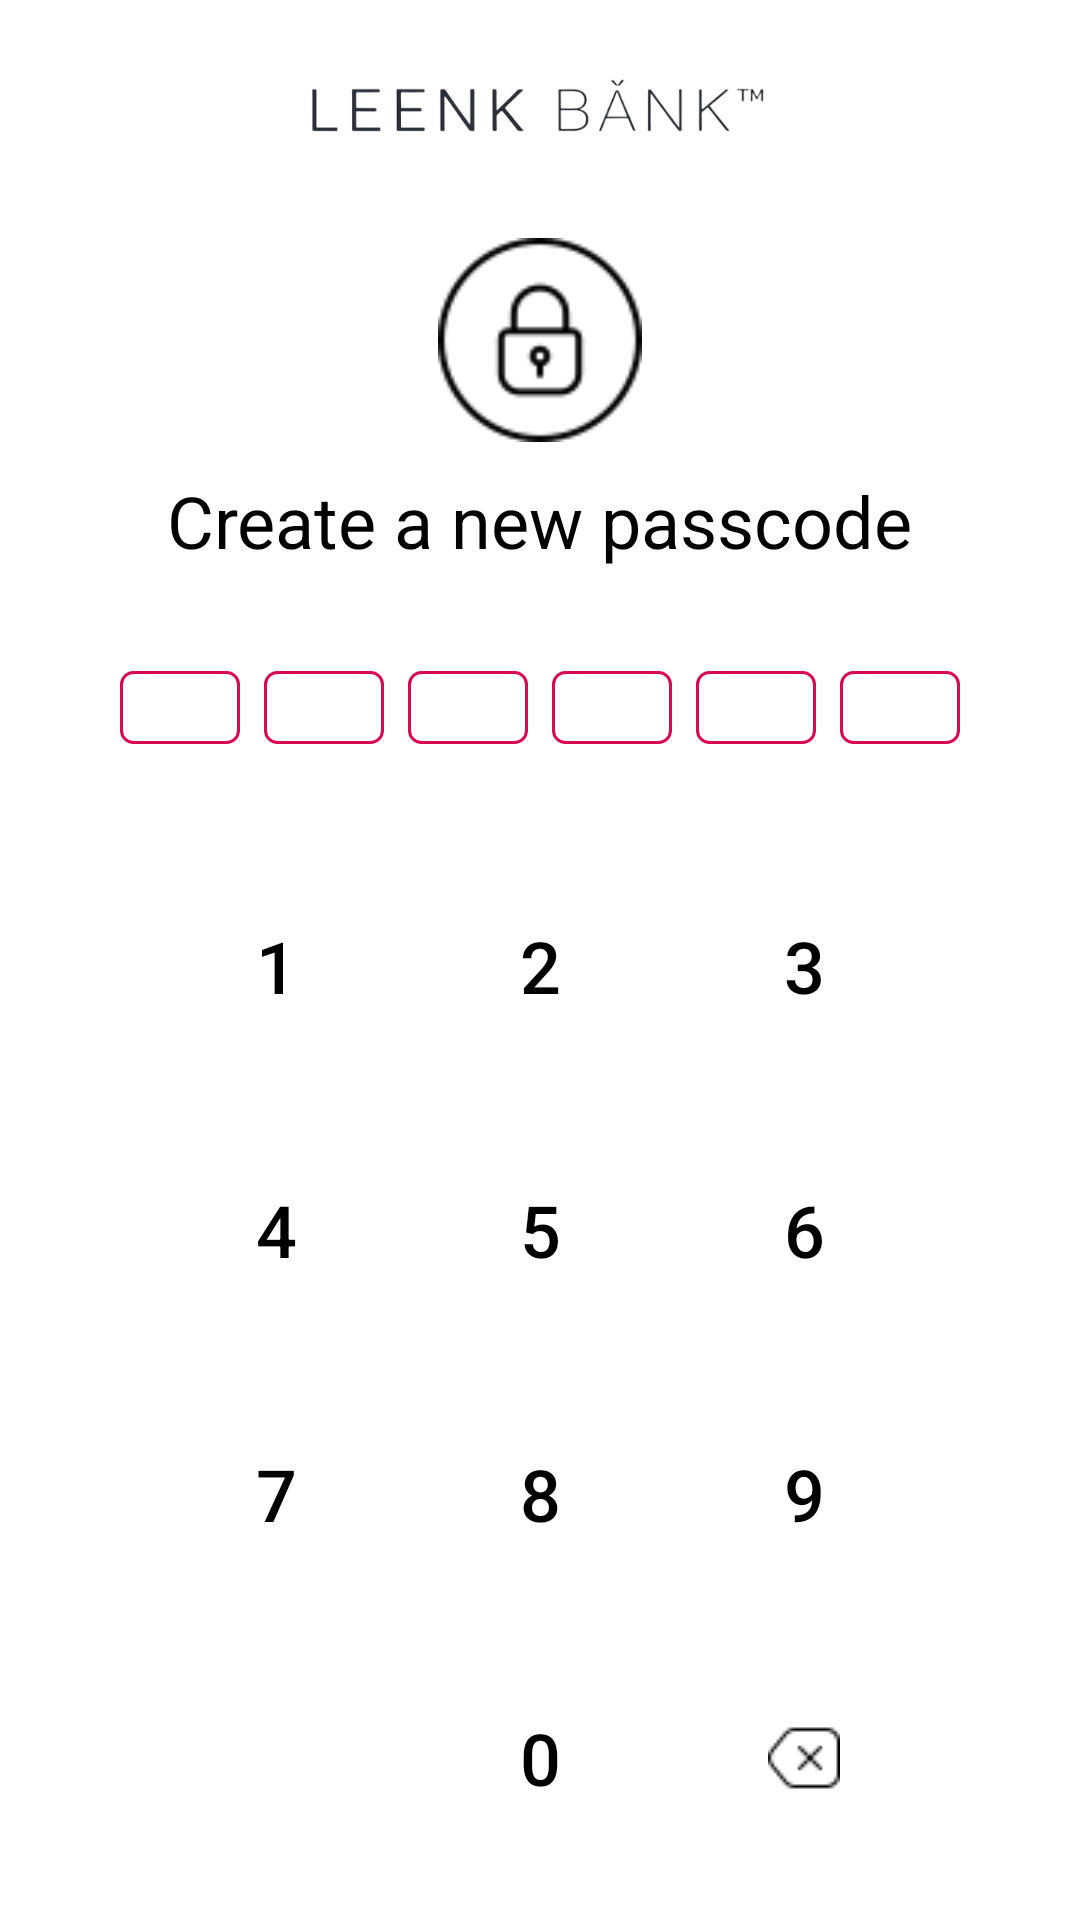

Screen size 1080w x 1920h. Icon name, then its center in pixels as (x=x, y=y):
Backspace: (x=804, y=1758)
Lock Icon: (x=540, y=340)
